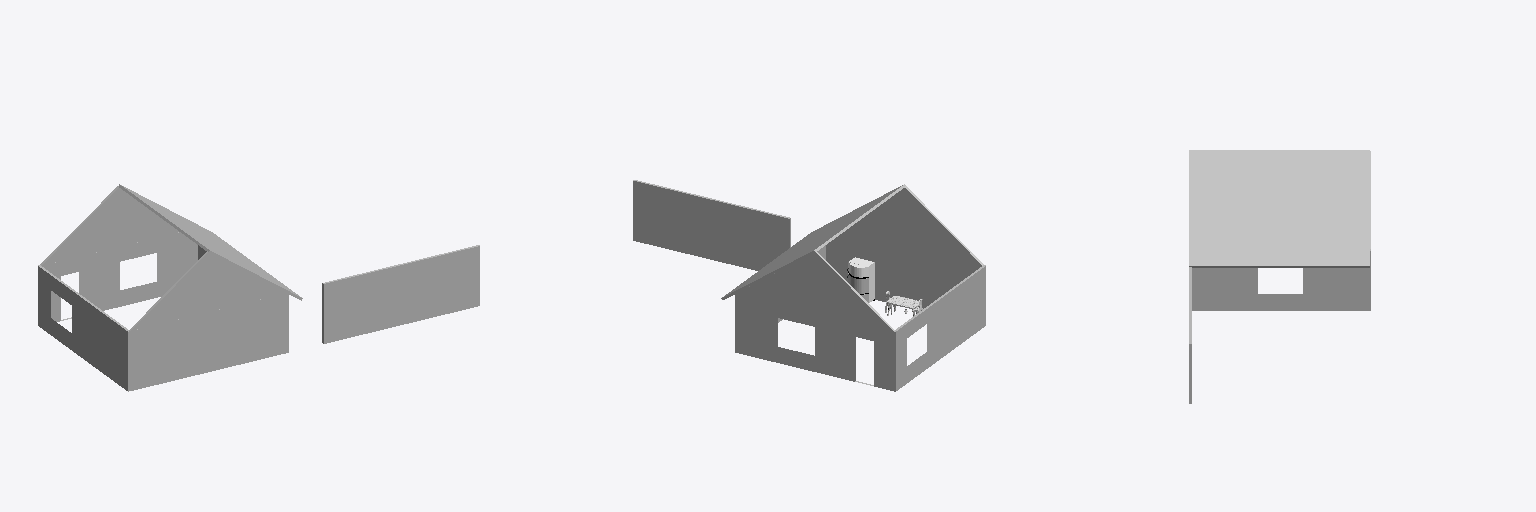
3 renders of one model, left to right at view 1: azimuth 30°, elevation 25°; view 2: azimuth 150°, elevation 25°; view 3: azimuth 270°, elevation 25°, orthographic.
Visible parts, largest first — view 1: Cubo.013_Cubo.014, Cubo_Cubo.001, Cubo.016_Cubo.020, Cubo.014_Cubo.015, Cubo.018_Cubo.025, Cubo.017_Cubo.024, Cubo.019_Cubo.017; view 2: Cubo.013_Cubo.014, Cubo.016_Cubo.020, Cubo_Cubo.001, Cubo.014_Cubo.015, Cubo.017_Cubo.024, Cubo.018_Cubo.025, Cubo.019_Cubo.017; view 3: Cubo.019_Cubo.017, Cubo.015_Cubo.016.
Boxes of the visible parts, <box> form: Cubo.013_Cubo.014: <box>322,245,479,343</box>; Cubo_Cubo.001: <box>130,293,286,390</box>; Cubo.016_Cubo.020: <box>40,232,197,321</box>; Cubo.014_Cubo.015: <box>38,265,129,391</box>; Cubo.018_Cubo.025: <box>129,251,284,330</box>; Cubo.017_Cubo.024: <box>40,186,178,265</box>; Cubo.019_Cubo.017: <box>119,184,302,300</box>; Cubo.013_Cubo.014: <box>633,180,790,270</box>; Cubo.016_Cubo.020: <box>737,293,892,390</box>; Cubo_Cubo.001: <box>826,232,981,308</box>; Cubo.014_Cubo.015: <box>893,265,985,391</box>; Cubo.017_Cubo.024: <box>738,251,894,330</box>; Cubo.018_Cubo.025: <box>845,186,983,265</box>; Cubo.019_Cubo.017: <box>721,184,905,299</box>; Cubo.019_Cubo.017: <box>1189,150,1369,267</box>; Cubo.015_Cubo.016: <box>1192,249,1370,310</box>.
Size of the model in its own units: 506 by 165 by 222.
Materials: 23 (2 with a texture image).